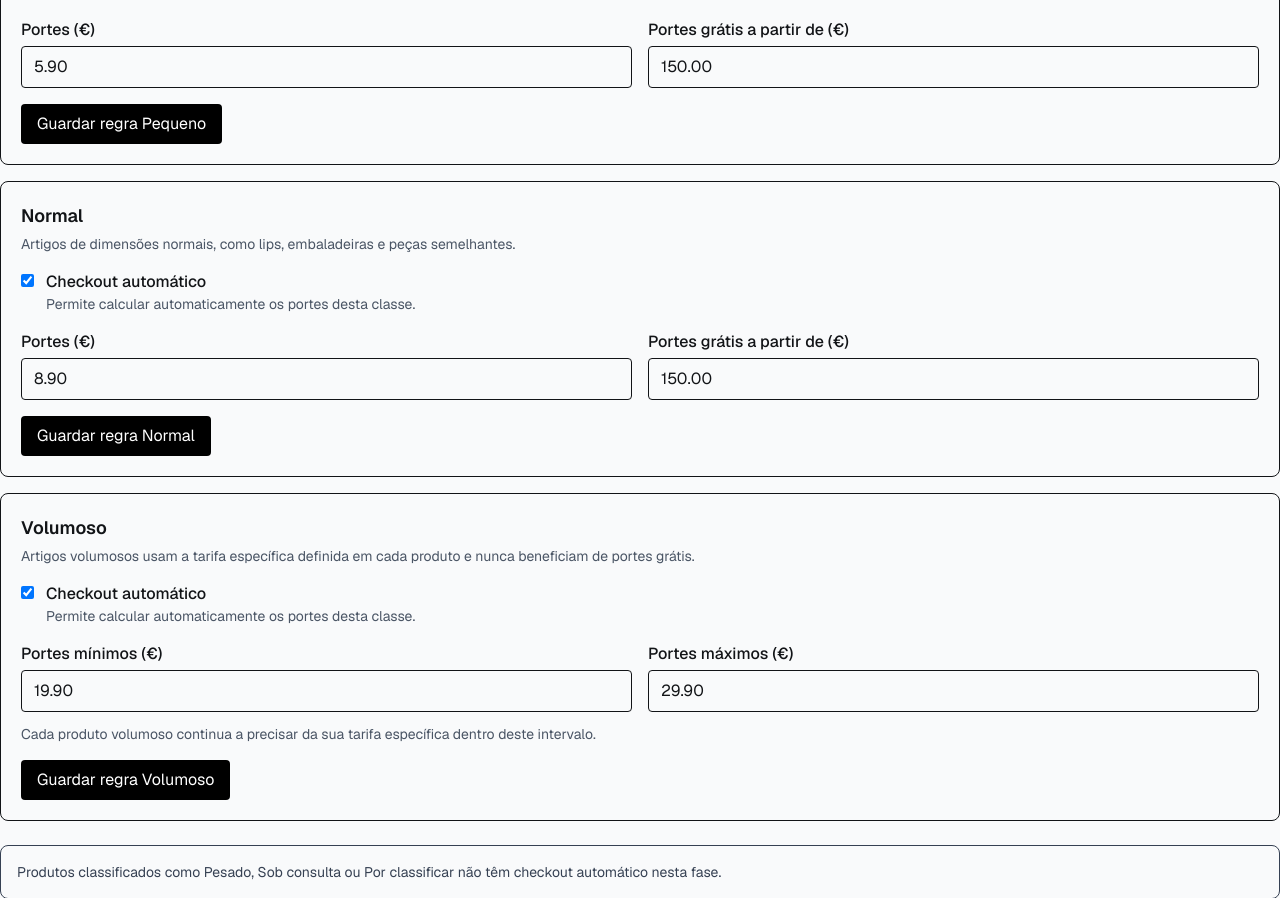
Test: CommercialSettingsClient › bloqueia intervalo volumoso inválido antes da API
(page scrolled)
Expected: the form "Volumoso" is shown, [0,493,1279,821]
Step 1. Type "30.00" into the field labelled "Portes mínimos (€)" → (326, 691), box [21,670,632,712]
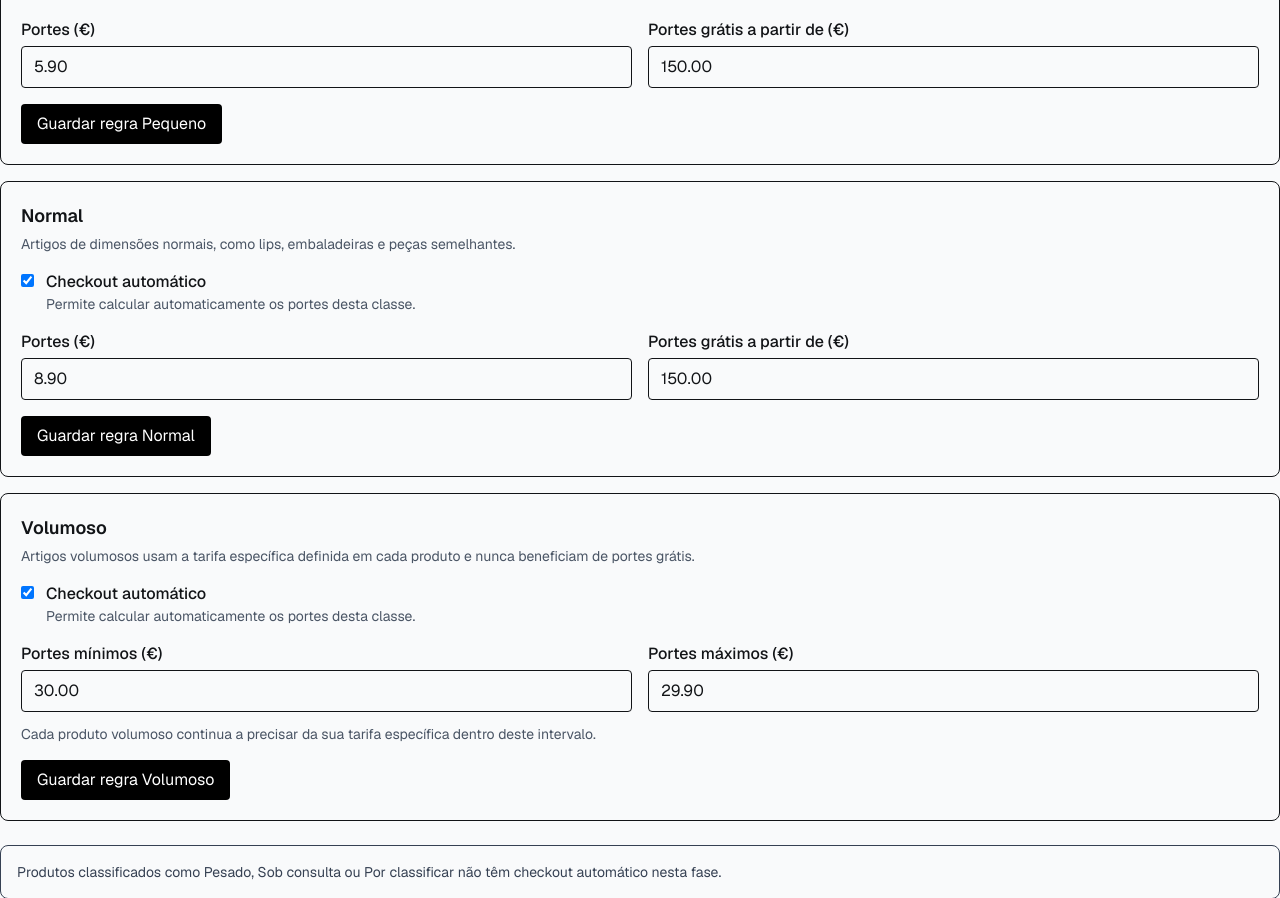
Step 2. Type "20.00" into the field labelled "Portes máximos (€)" → (954, 691), box [648,670,1259,712]
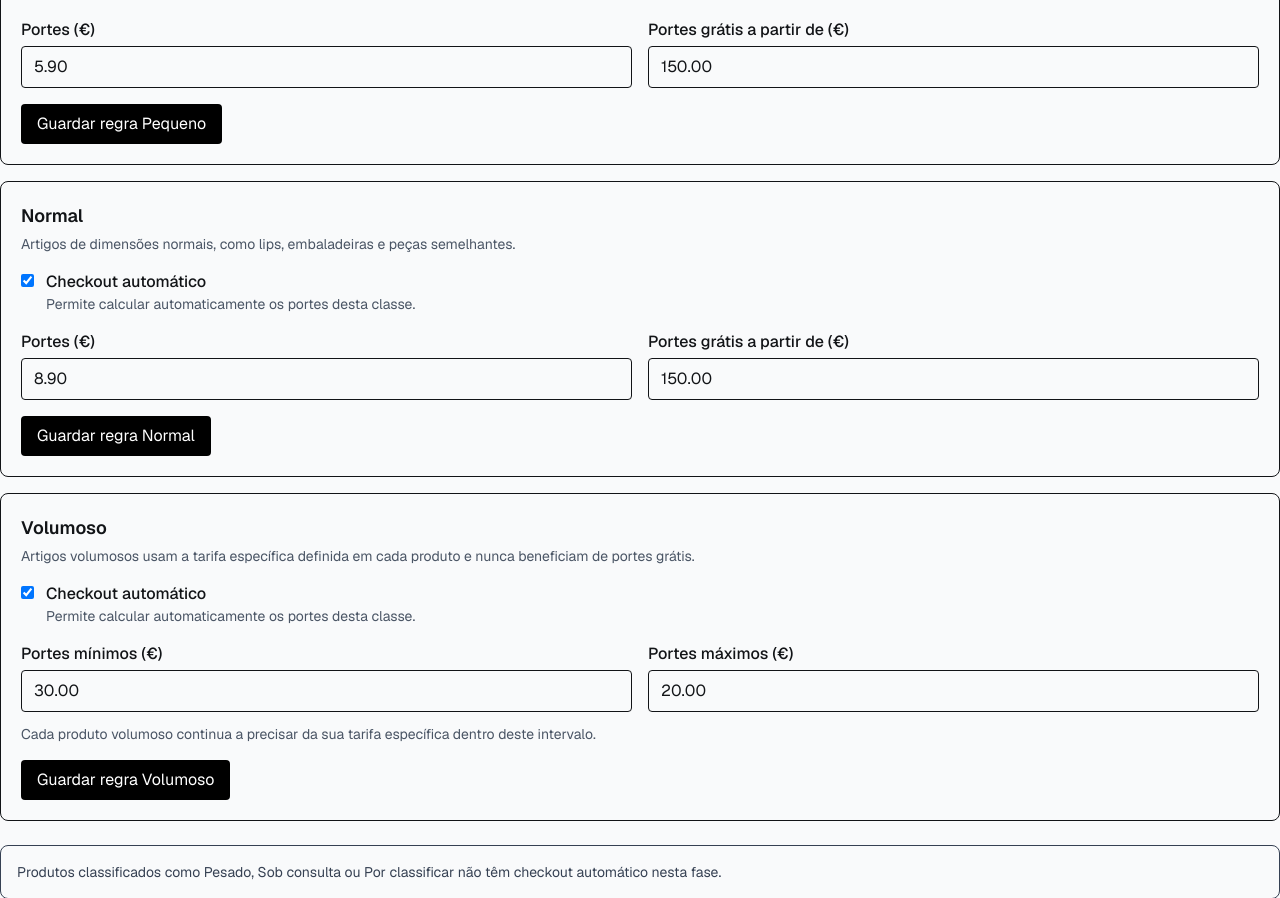
Step 3. Click the button "Guardar regra Volumoso" → (126, 780), box [21,760,230,800]
(page scrolled)
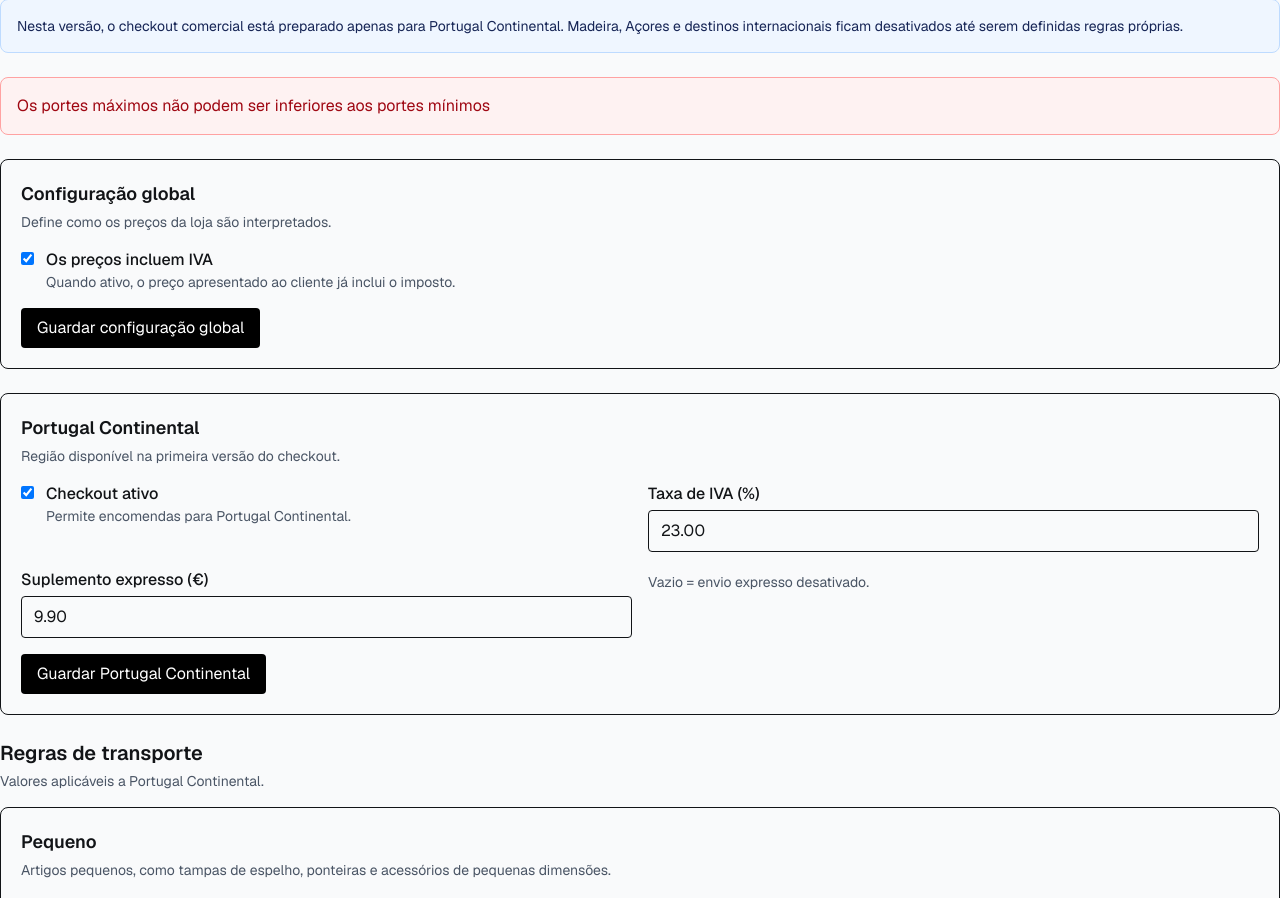
Expected: the message reads "Os portes máximos não podem ser inferiores aos portes mínimos", [17,95,490,116]
